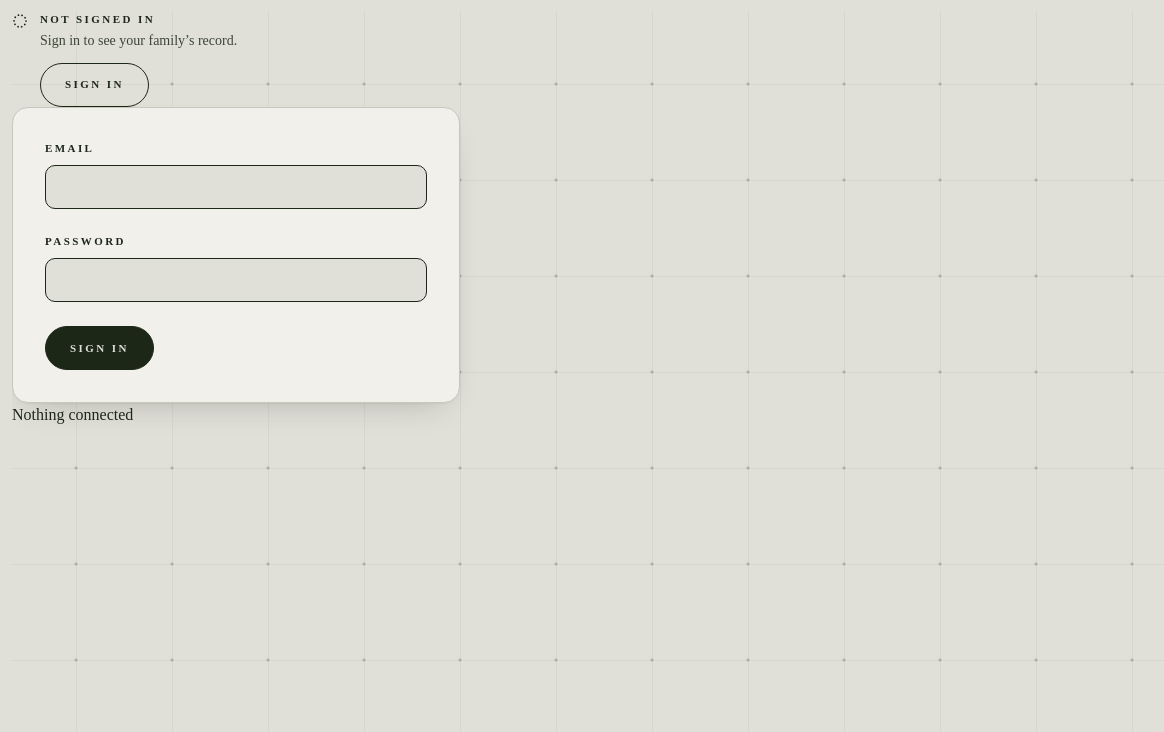
Scenario: signed in › lists the parent's children, opens the first, and shows its snapshot live
Step 1. Type "parent@example.org" into the field labelled "Email" → (236, 187), box [45,165,427,209]
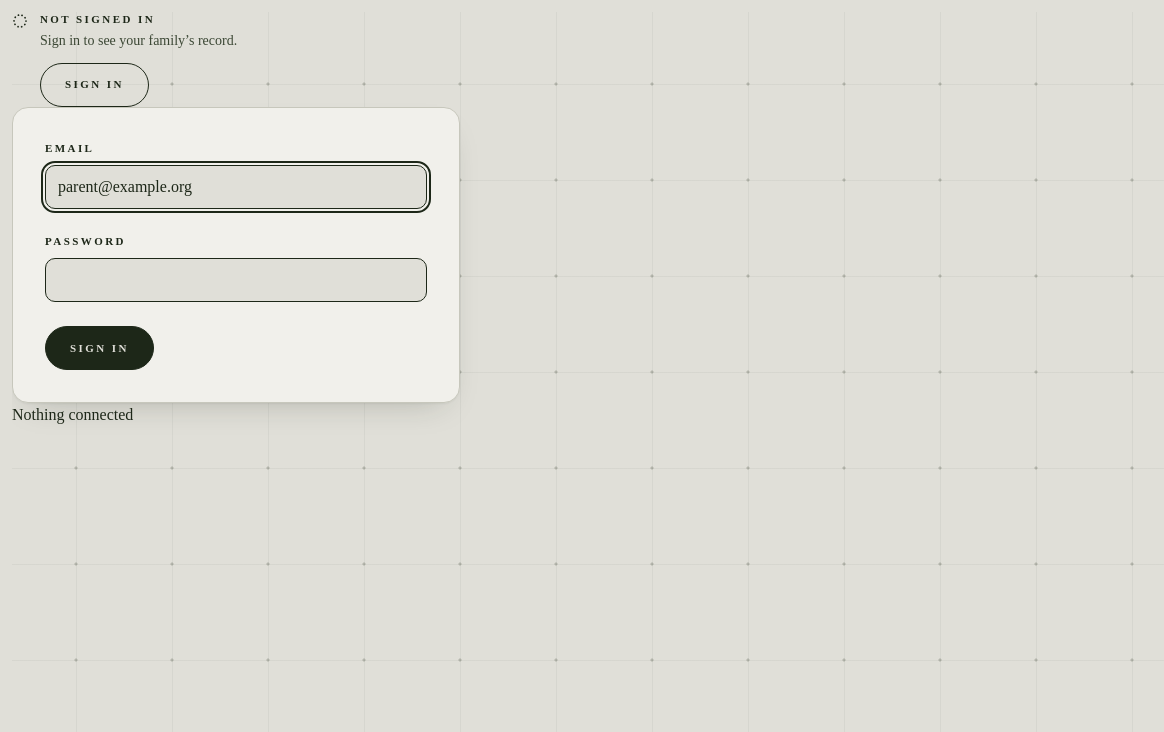
Step 2. Type "fake-synthetic-only" into the password field labelled "Password" → (236, 280), box [45,258,427,302]
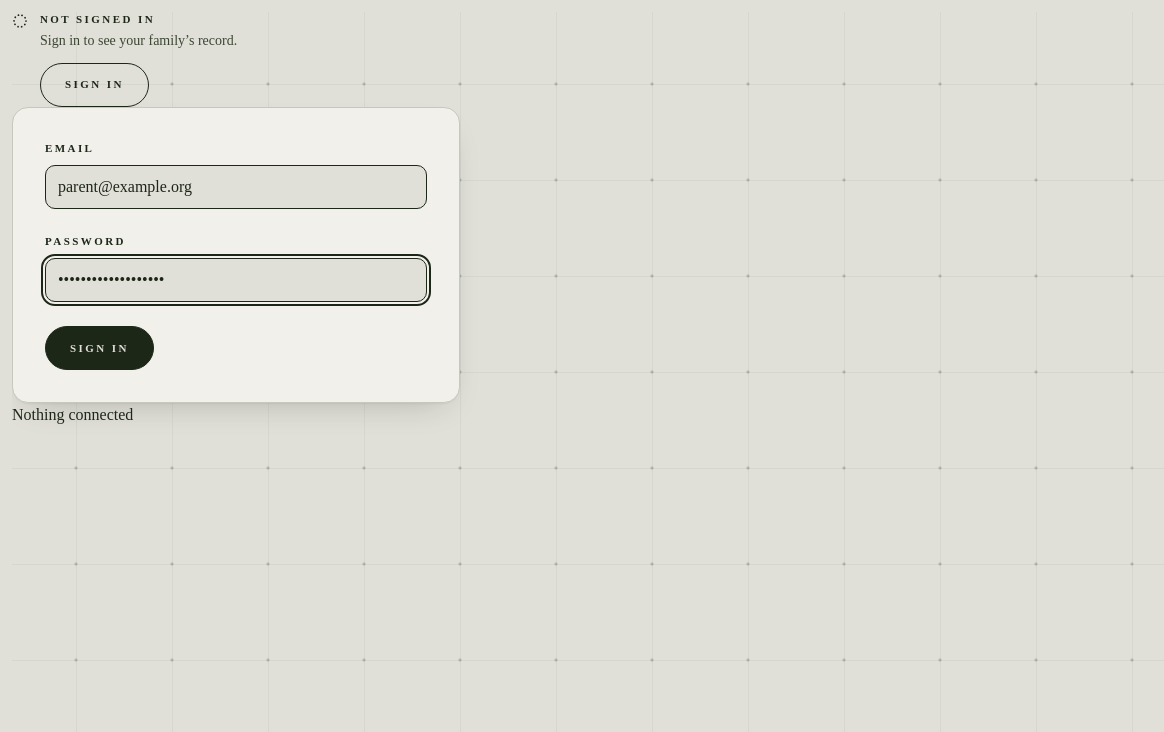
Step 3. Click the button "Sign in" → (99, 348), box [45,326,154,370]
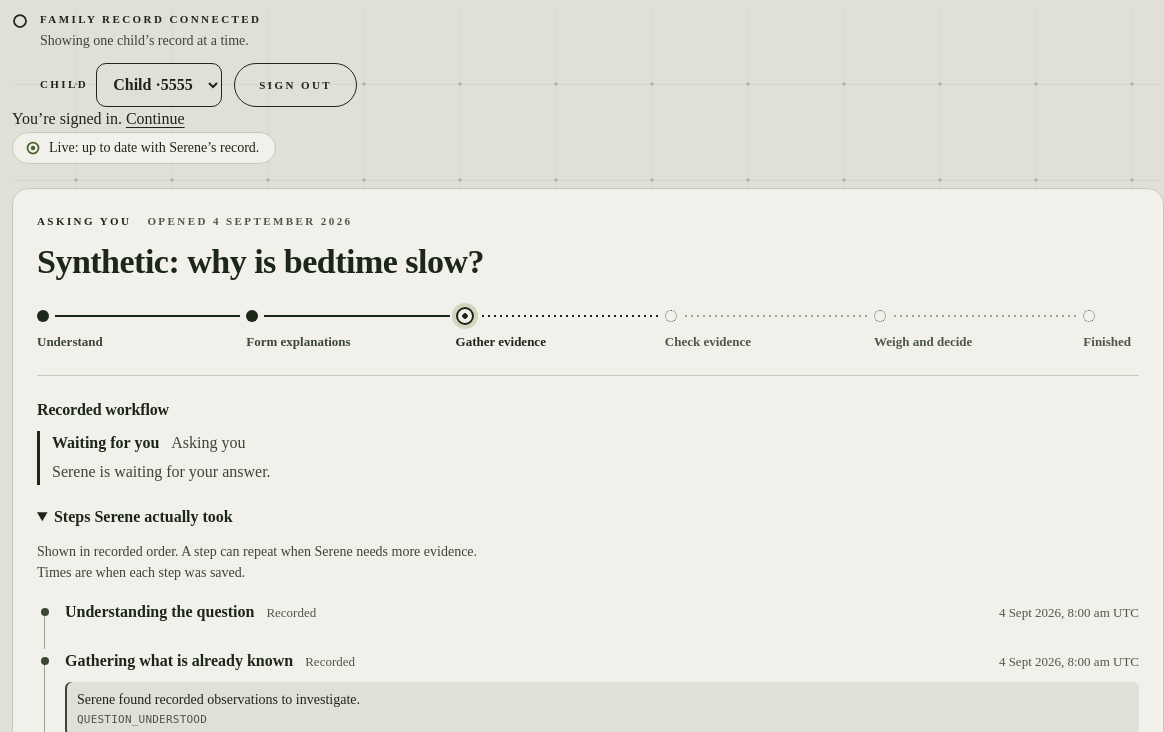
Now the text "Family record connected" is shown, box [40,13,262,25]
Now the heading "Synthetic: why is bedtime slow?" is shown, box [37,243,484,280]
Now the message "Live: up to date with Serene’s record." is shown, box [12,132,276,164]
